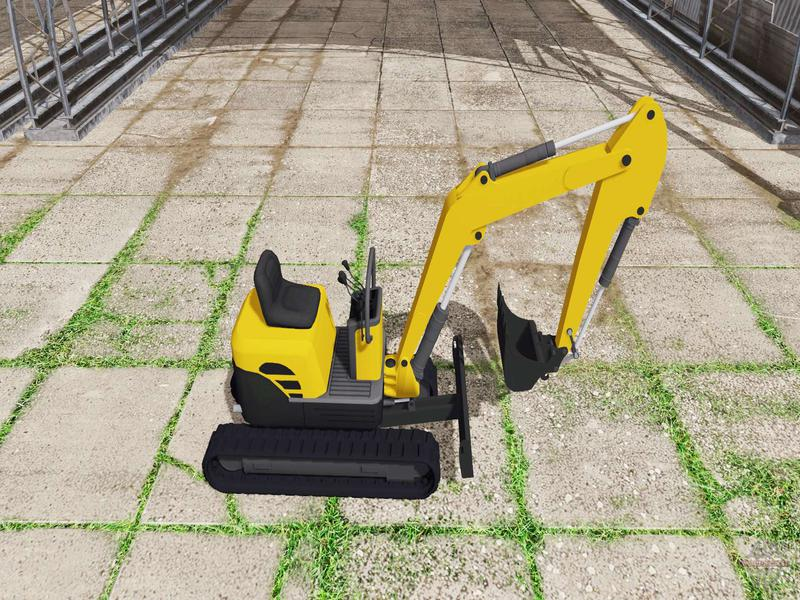shovel: (197, 87, 677, 508)
